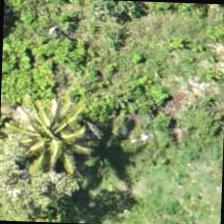Kelapa_Sawit: (1, 90, 94, 182)
